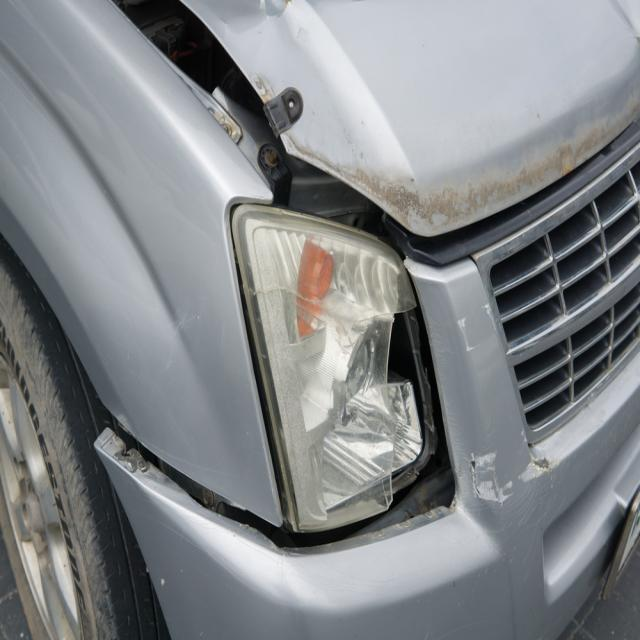lamp broken: (229, 202, 441, 530)
scratch: (469, 441, 552, 510)
